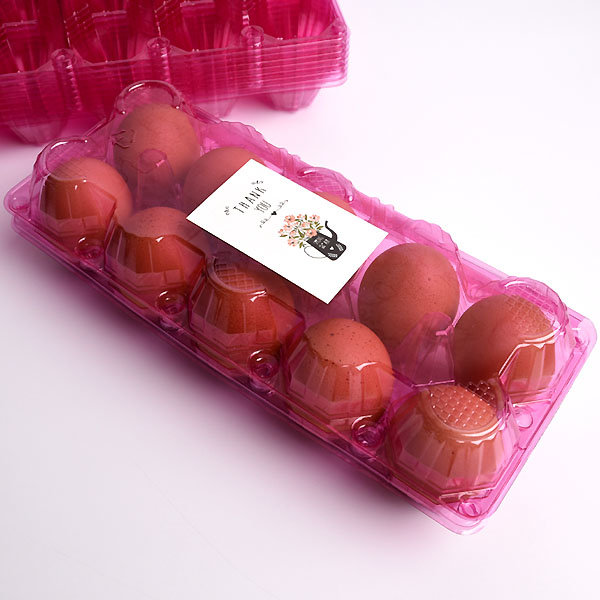egg: (35, 100, 557, 497)
